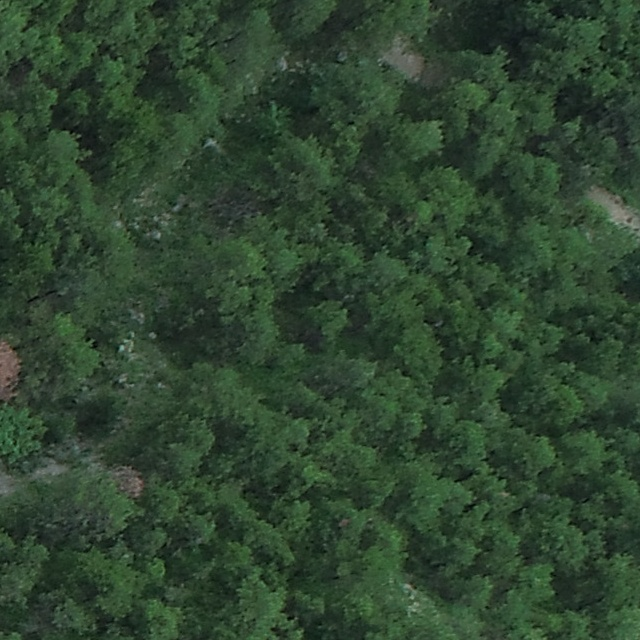unhealthy: (110, 462, 146, 498), (0, 338, 20, 400), (30, 458, 67, 482), (0, 460, 17, 499)
